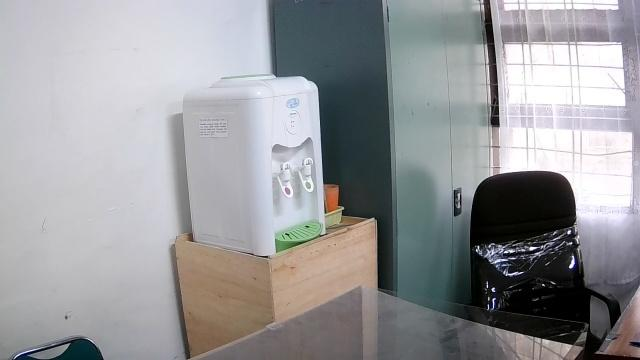Dispenser: (179, 72, 328, 257)
Kursi: (469, 169, 622, 347)
Lemari: (272, 0, 493, 304)
